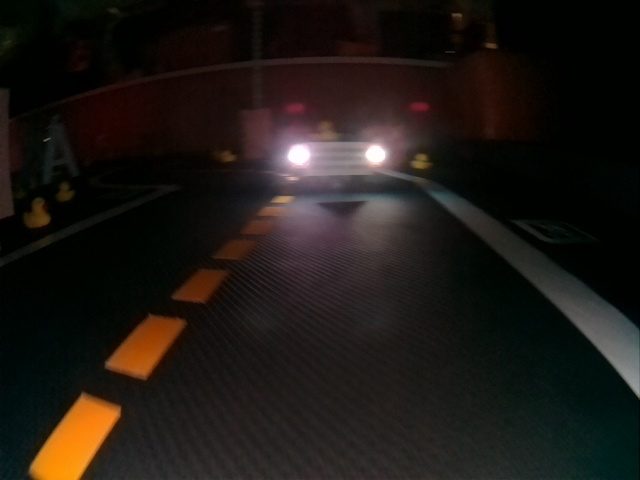Duckie: (24, 200, 51, 227), (312, 123, 338, 141), (409, 153, 432, 169), (57, 184, 73, 202)
Duckiebot: (288, 135, 388, 187)
QR code: (515, 216, 588, 245)
